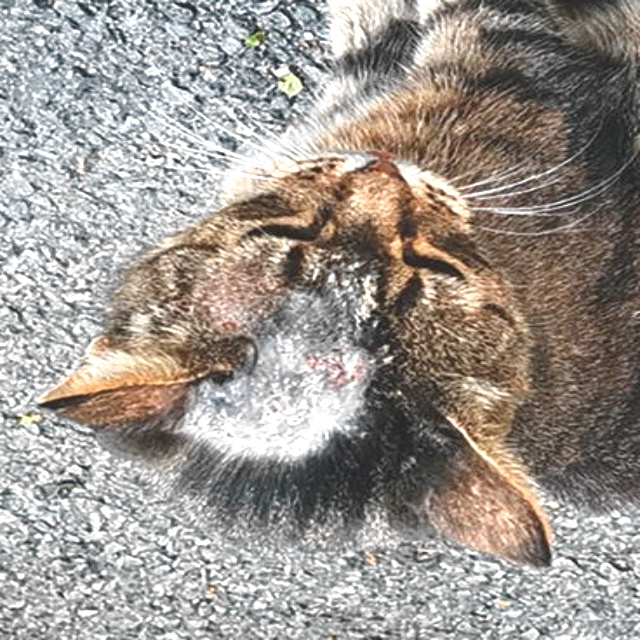ringworm: (179, 267, 369, 467)
